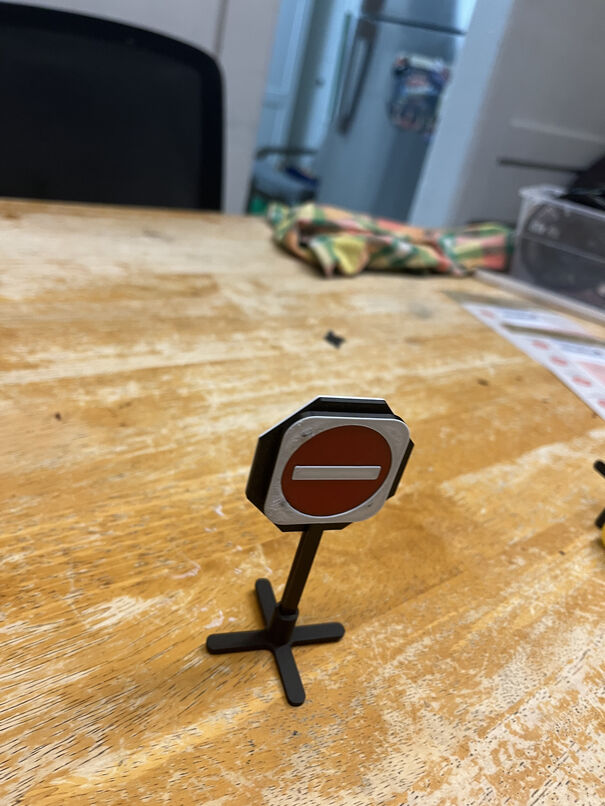sign_noentry: (259, 407, 415, 531)
